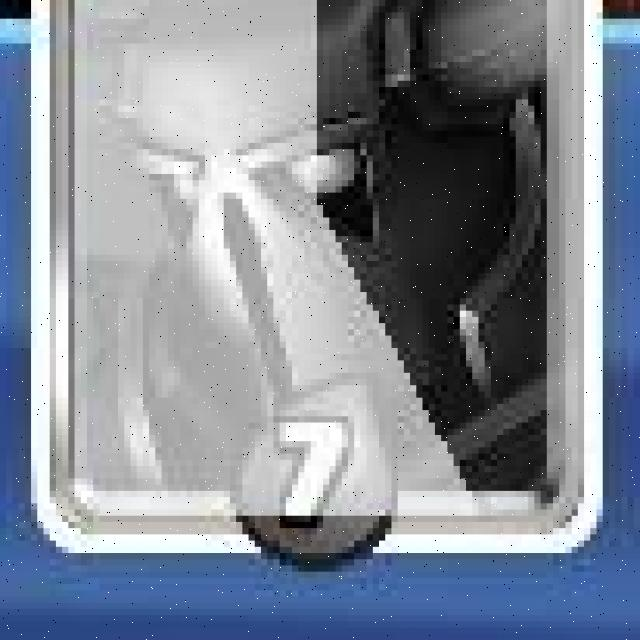Pekka: (23, 0, 591, 553)
